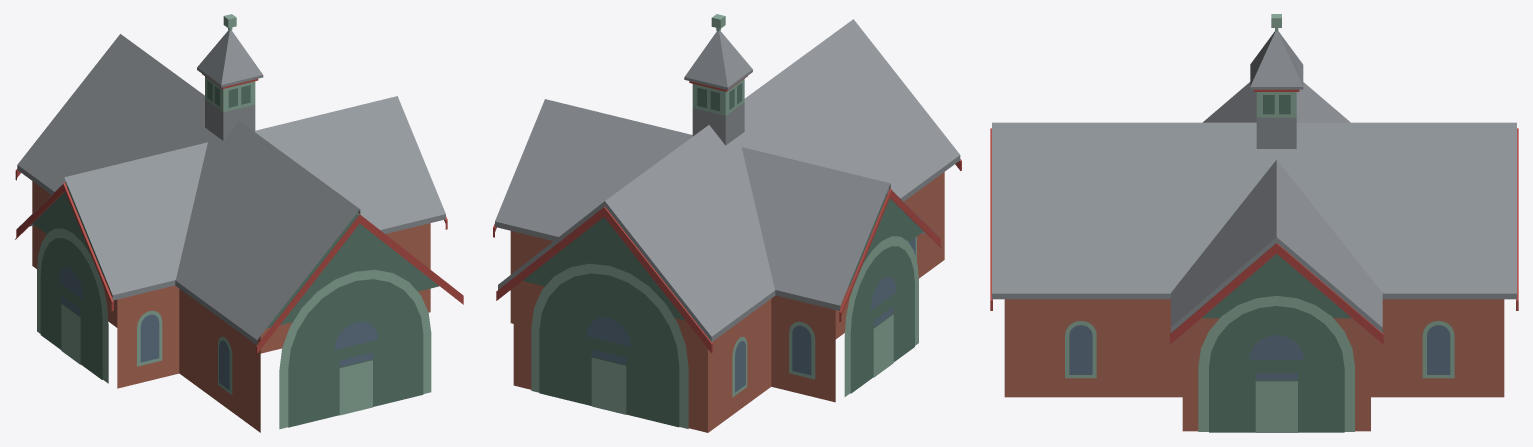
The model's file is nyc-dana-discovery-center.glb.
3 views of the same model, side by side, from view 1: azimuth 30°, elevation 25°; view 2: azimuth 150°, elevation 25°; view 3: azimuth 270°, elevation 25° (orthographic). The views are drawn at different scales.
Visible parts, largest first — view 1: Charles A. Dana Discovery Center; view 2: Charles A. Dana Discovery Center; view 3: Charles A. Dana Discovery Center.
Boxes of the visible parts, <box> form: Charles A. Dana Discovery Center: <box>15,14,463,432</box>; Charles A. Dana Discovery Center: <box>493,14,961,432</box>; Charles A. Dana Discovery Center: <box>990,14,1518,432</box>.
Bounding box in the file's own units: 20.06 × 17.25 × 24.96.
